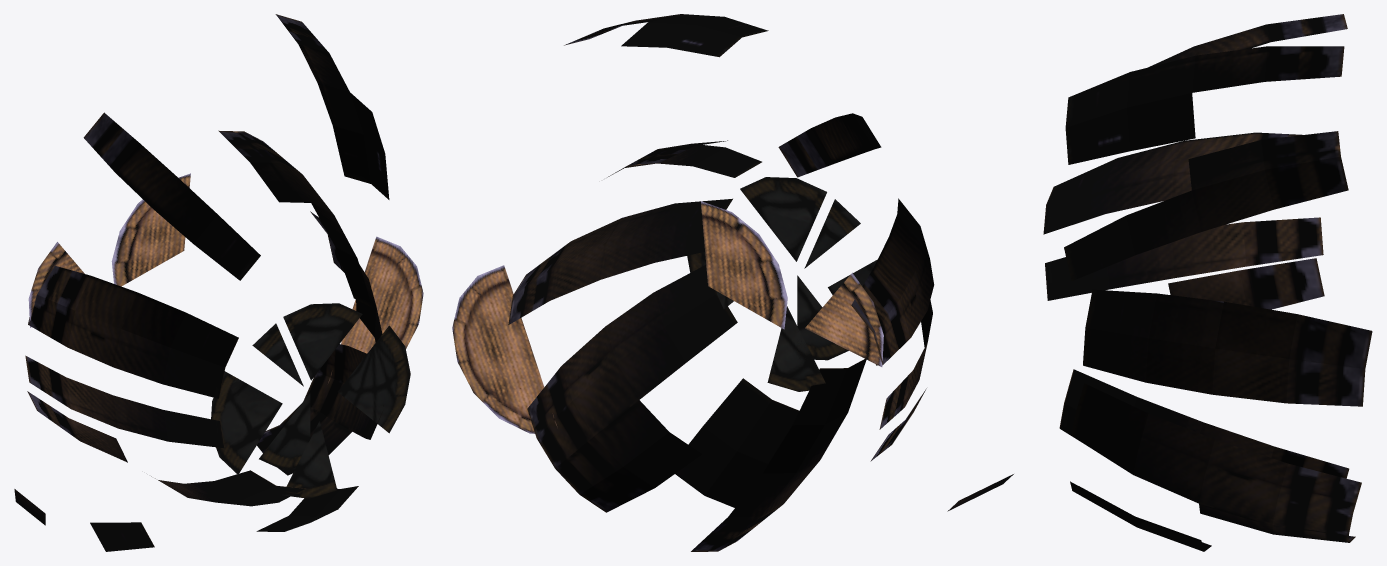
The model's file is ex_BarrelAnimate_000003.obj.
3 views of the same model, side by side, from view 1: azimuth 30°, elevation 25°; view 2: azimuth 150°, elevation 25°; view 3: azimuth 270°, elevation 25° (orthographic). The views are drawn at different scales.
Size of the model in its own units: 175 by 165 by 91.23.
Materials: 1 (1 with a texture image).
